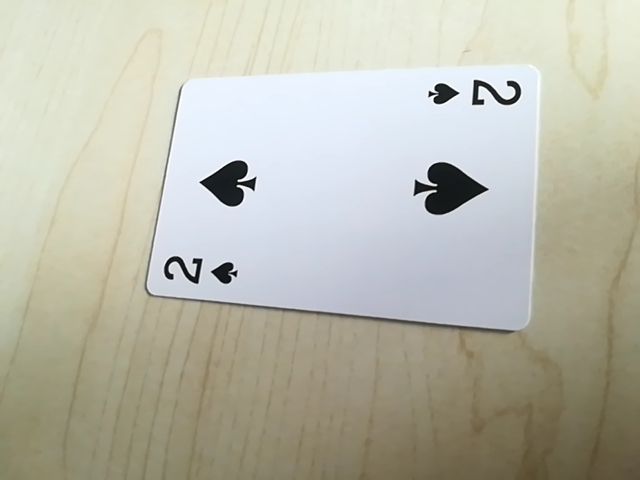ht 2: (421, 72, 527, 116), (154, 246, 245, 296)
